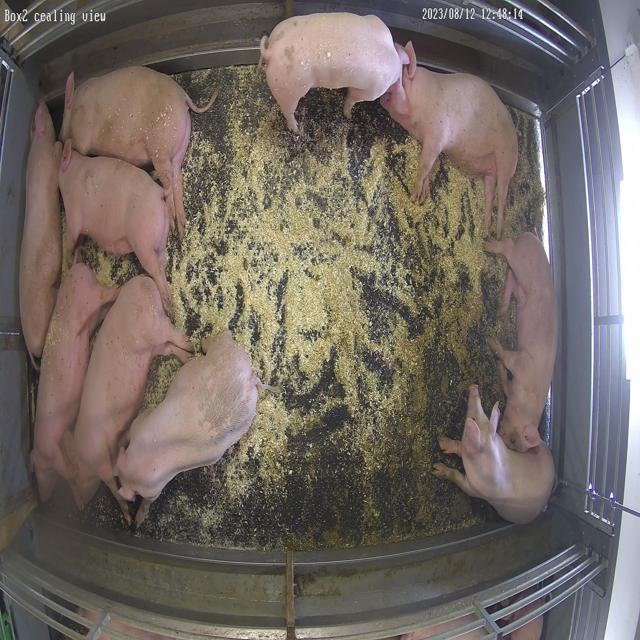Dirt: (305, 276, 512, 548)
Pig: (114, 331, 260, 524), (381, 41, 519, 238), (62, 66, 215, 236), (31, 263, 119, 502), (58, 145, 169, 308), (260, 12, 409, 132), (434, 386, 556, 524), (487, 233, 558, 452), (18, 102, 61, 358)
